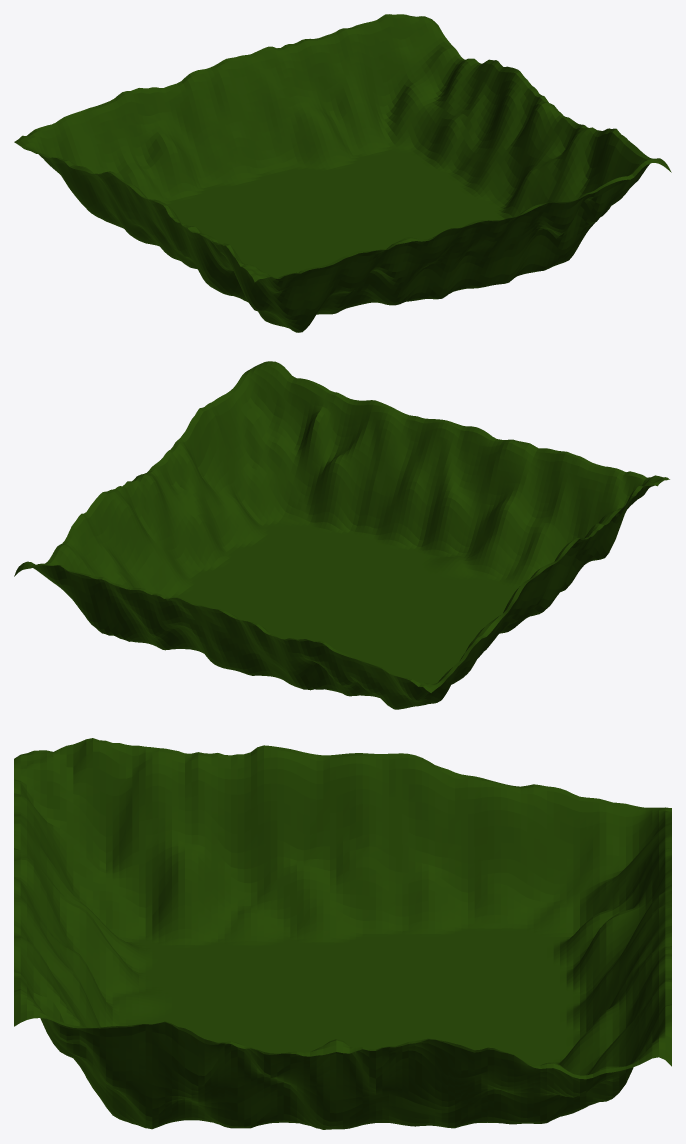
File: Terrain.dae
3 renders of one model, top to bottom at view 1: azimuth 30°, elevation 25°; view 2: azimuth 150°, elevation 25°; view 3: azimuth 270°, elevation 25°, orthographic. The views are drawn at different scales.
Visible parts, largest first — view 1: SketchUp; view 2: SketchUp; view 3: SketchUp.
Boxes of the visible parts, left/top/right/bottom form: SketchUp: left=14, top=14, right=671, bottom=332; SketchUp: left=14, top=361, right=669, bottom=709; SketchUp: left=14, top=738, right=671, bottom=1129.
Bounding box in the file's own units: 39370 × 39370 × 10817.
